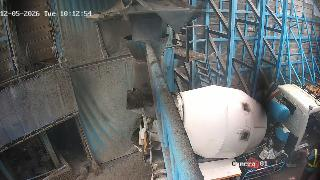cement_mixer_truck: (127, 84, 320, 180)
swing_chute: (124, 35, 169, 94)
